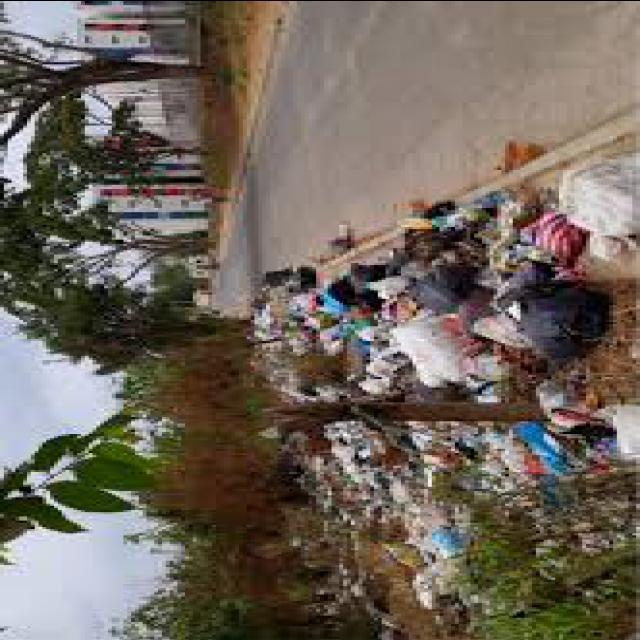Trashbag: (496, 281, 640, 360)
